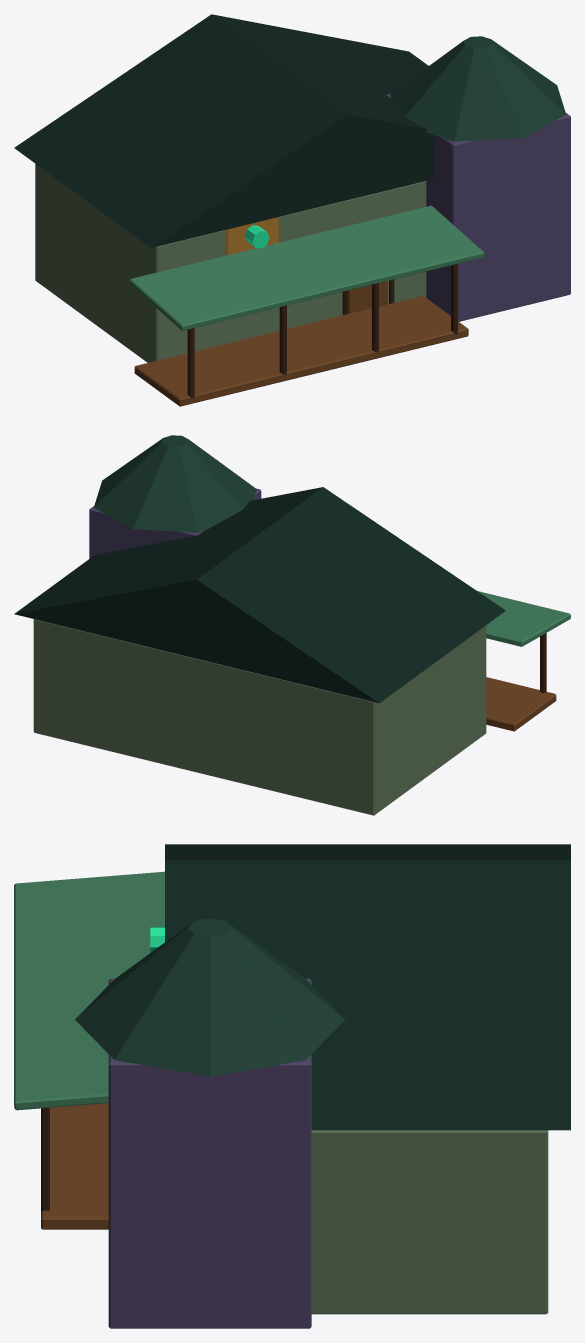
The model's file is LumenProvingLodgeV2.glb.
3 views of the same model, one above another, from view 1: azimuth 30°, elevation 25°; view 2: azimuth 150°, elevation 25°; view 3: azimuth 270°, elevation 25° (orthographic). The views are drawn at different scales.
Parts seen in each view (by area): view 1: LumenProvingLodgeV2; view 2: LumenProvingLodgeV2; view 3: LumenProvingLodgeV2.
Part boxes in pixels (bbox=[...]): LumenProvingLodgeV2: bbox=[14, 14, 570, 406]; LumenProvingLodgeV2: bbox=[14, 435, 570, 815]; LumenProvingLodgeV2: bbox=[14, 844, 570, 1328].
Size of the model in its own units: 33.5 by 17.55 by 24.7.
Materials: 1 (1 with a texture image).
